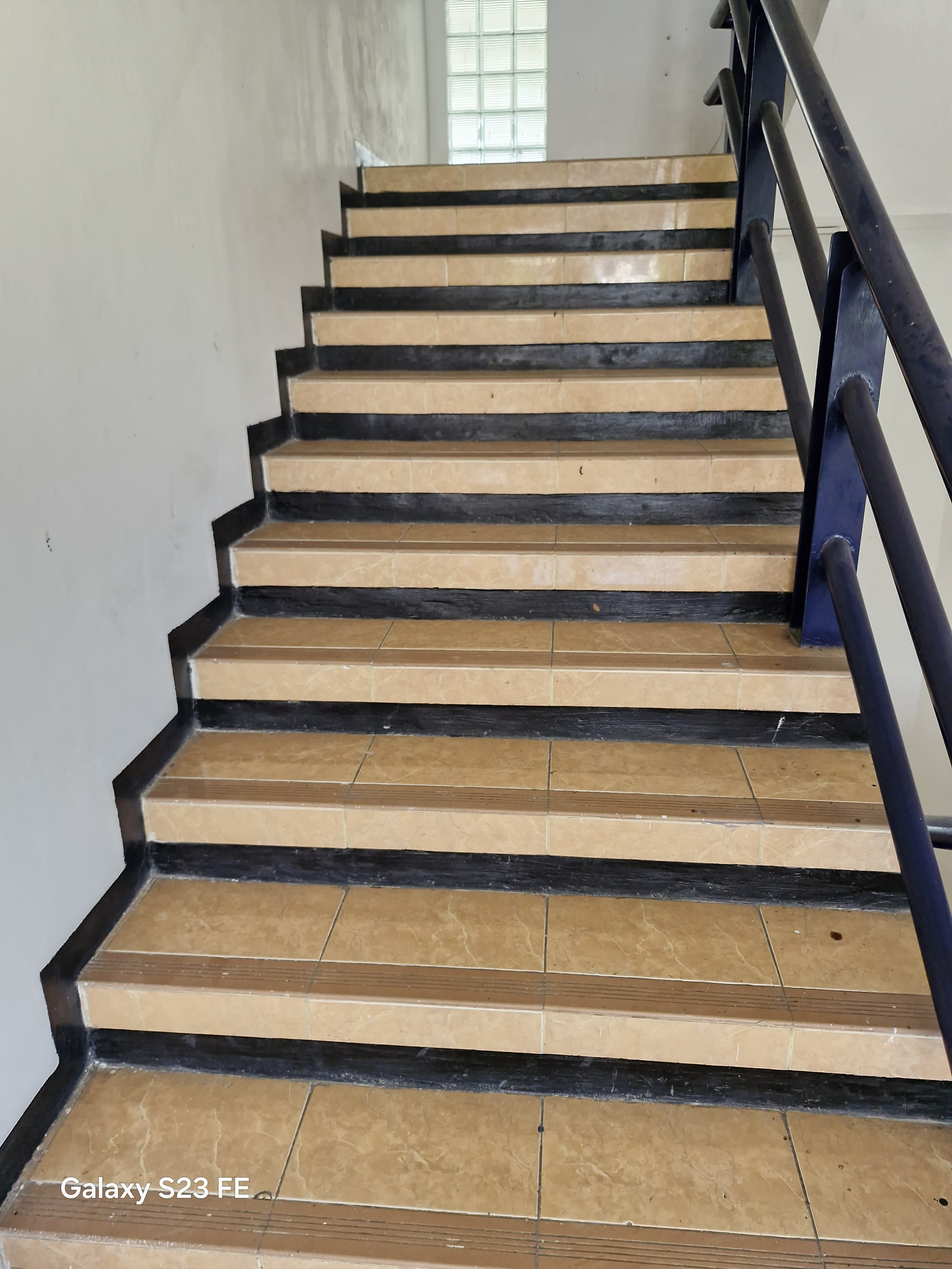stairs: (0, 152, 951, 1268)
wall-other-merged: (0, 0, 432, 1179), (547, 0, 951, 1072)
window-other: (444, 0, 546, 151)
